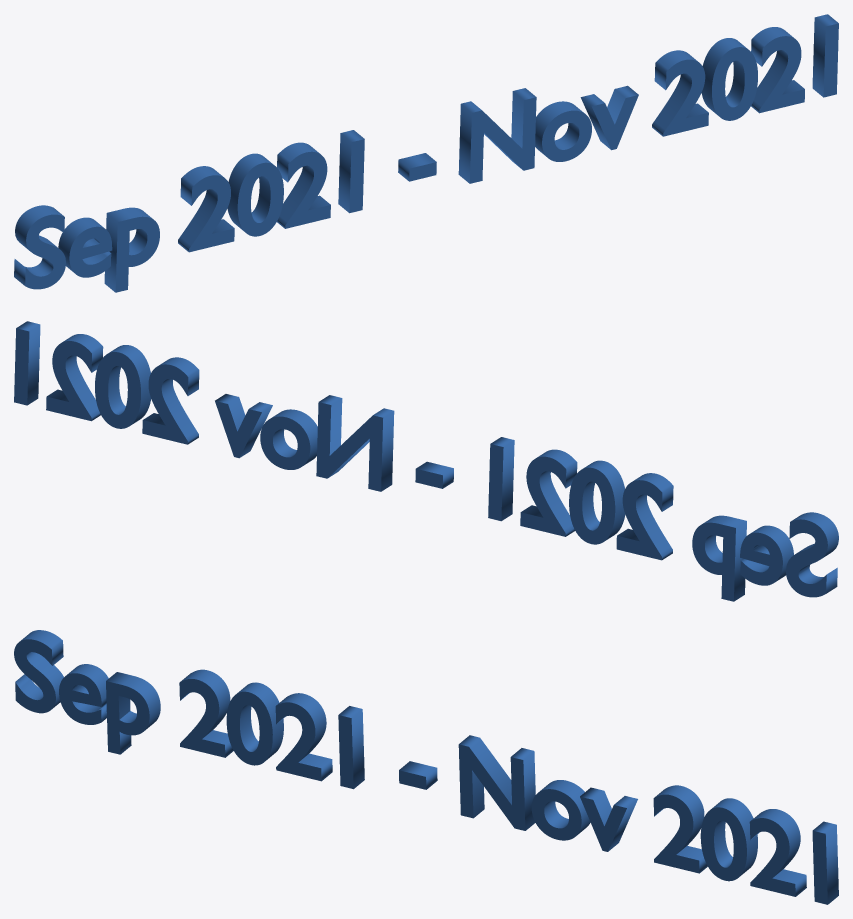
File: sep21.glb
3 renders of one model, top to bottom at view 1: azimuth 30°, elevation 25°; view 2: azimuth 150°, elevation 25°; view 3: azimuth 330°, elevation 25°, orthographic.
Visible parts, largest first — view 1: Text; view 2: Text; view 3: Text.
Part boxes in pixels (left/top/right/bottom): Text: left=14, top=14, right=838, bottom=292; Text: left=14, top=321, right=838, bottom=601; Text: left=14, top=630, right=838, bottom=904.
Size of the model in its own units: 8.44 by 0.9703 by 0.2505.
